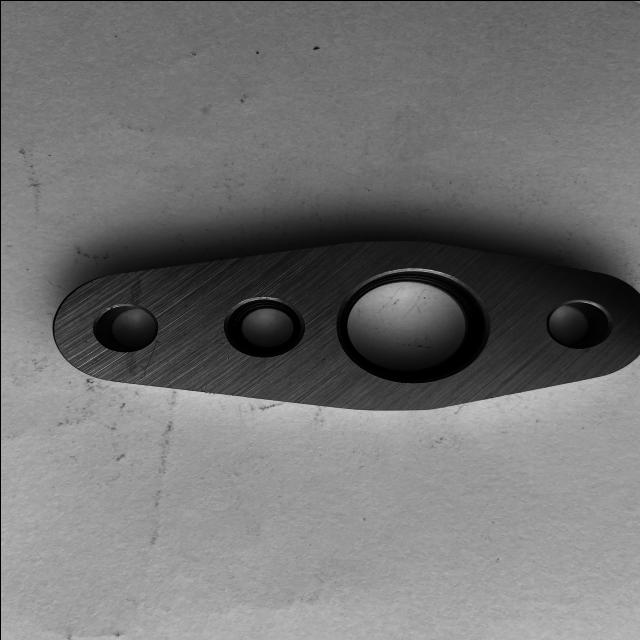chap: (223, 356, 230, 358)
lines: (148, 340, 160, 366), (142, 351, 152, 376)
